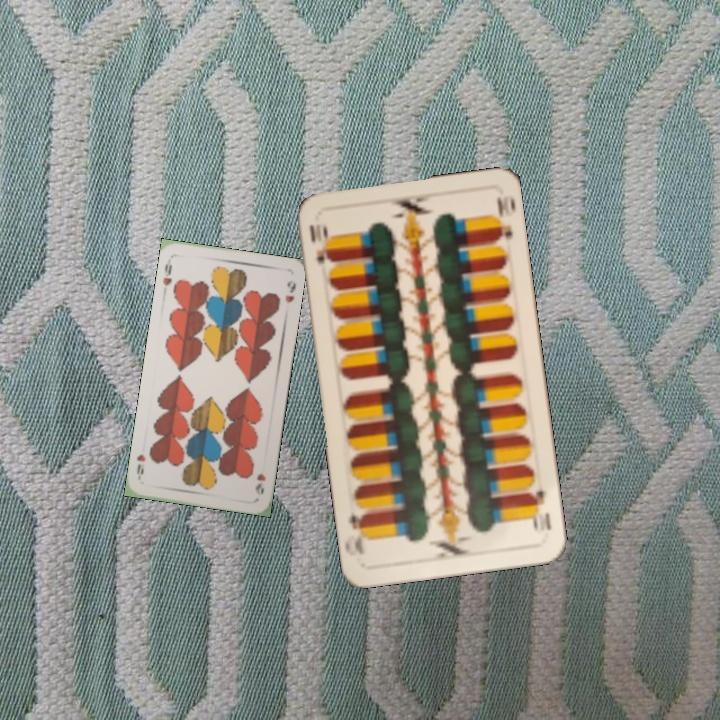E10: (305, 221, 335, 267), (525, 486, 553, 534)
H9: (251, 470, 268, 496), (159, 260, 174, 288)
